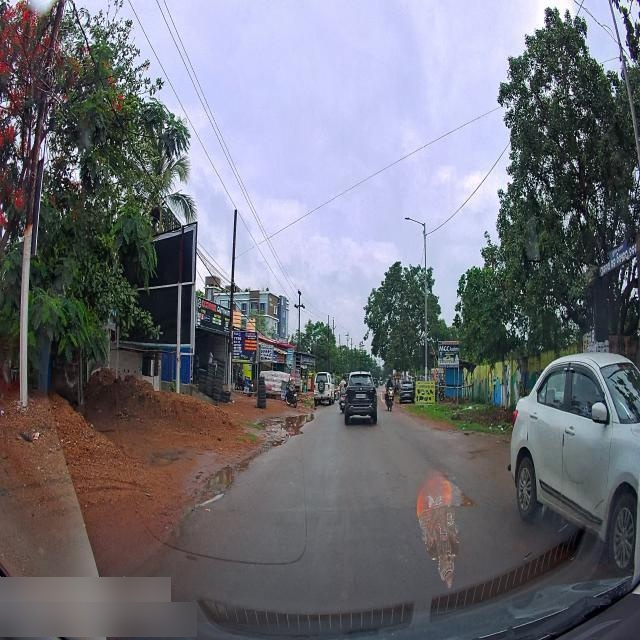pothole: (204, 467, 239, 489), (280, 411, 314, 430), (458, 488, 475, 511)
